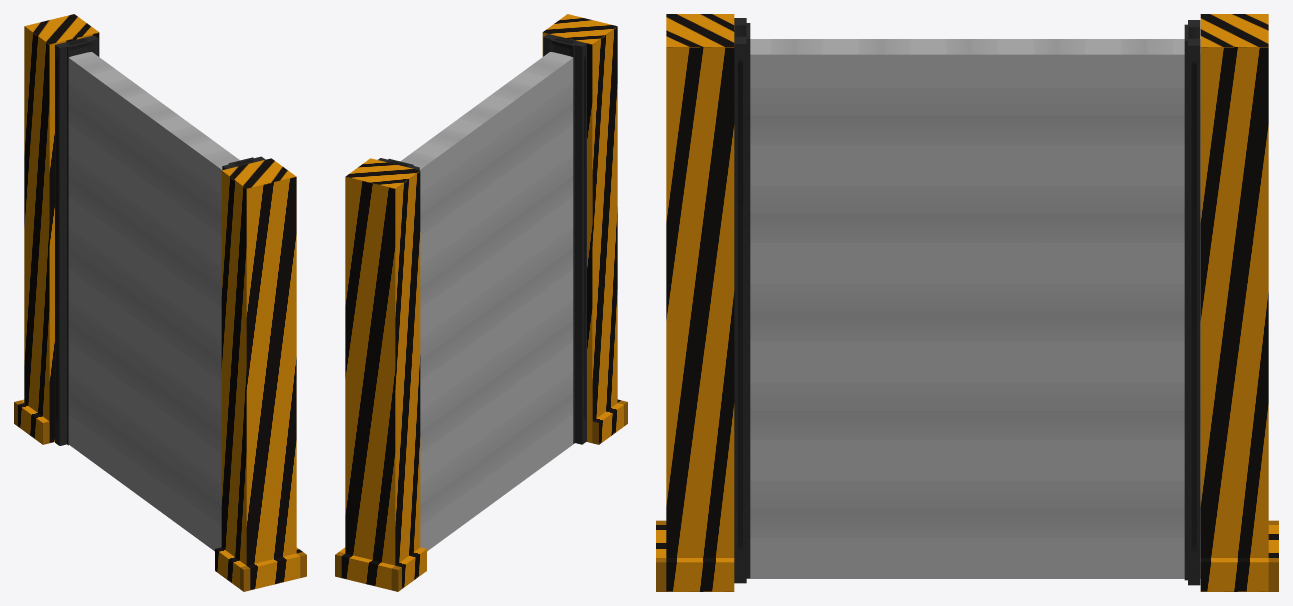
The model's file is metaldoor_v2.FBX.
The picture shows the model from 3 angles, left to right: view 1: azimuth 30°, elevation 25°; view 2: azimuth 150°, elevation 25°; view 3: azimuth 270°, elevation 25°; orthographic projection. The views are drawn at different scales.
Parts seen in each view (by area): view 1: Box001, Box002, Box003, Box004; view 2: Box001, Box003, Box002, Box005; view 3: Box001, Box002, Box003, Box004, Box005.
Part boxes in pixels (x1=…): Box001: x1=68, y1=52, x2=239, y2=551; Box002: x1=215, y1=158, x2=306, y2=591; Box003: x1=14, y1=14, x2=99, y2=444; Box004: x1=55, y1=35, x2=98, y2=445; Box001: x1=400, y1=52, x2=574, y2=551; Box003: x1=335, y1=158, x2=426, y2=591; Box002: x1=542, y1=14, x2=627, y2=444; Box005: x1=543, y1=34, x2=586, y2=444; Box001: x1=746, y1=39, x2=1200, y2=578; Box002: x1=656, y1=14, x2=734, y2=591; Box003: x1=1200, y1=14, x2=1278, y2=591; Box004: x1=1184, y1=20, x2=1200, y2=585; Box005: x1=734, y1=18, x2=750, y2=583.
Bounding box in the file's own units: 12.32 × 74.6 × 77.72.
Materials: 3 (3 with a texture image).
